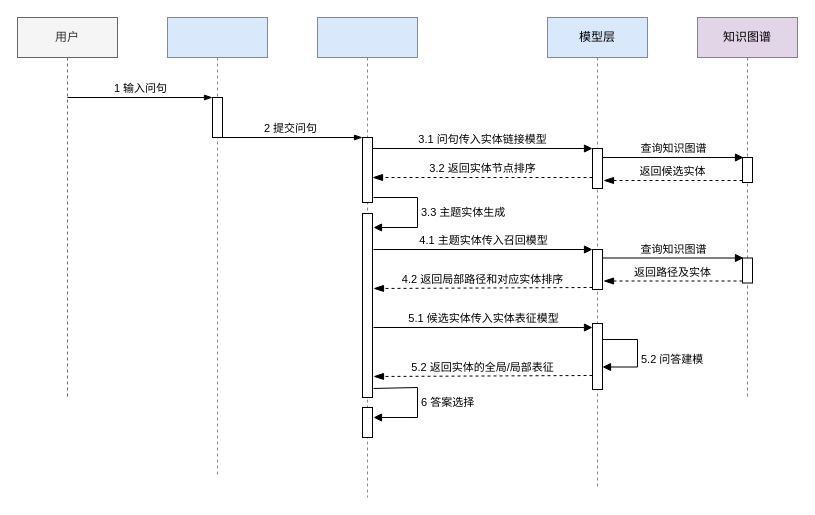
Some shapes in this 815 by 515 pixel diagram are drawn without their labels. Here are the shapes that lost their labels. From the top down, the box of each, then its label:
(166, 16, 268, 478): 交互前端
(316, 16, 418, 498): 后端
